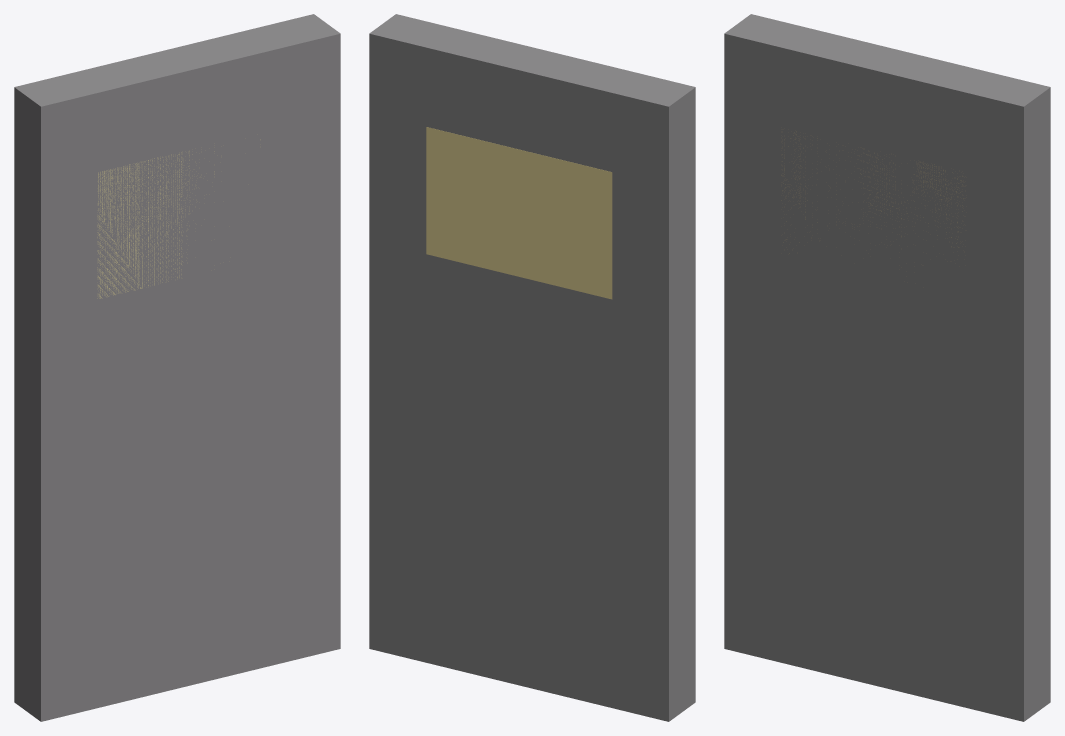
File: door.fbx
3 views of the same model, side by side, from view 1: azimuth 30°, elevation 25°; view 2: azimuth 150°, elevation 25°; view 3: azimuth 330°, elevation 25° (orthographic).
Parts seen in each view (by area): view 1: root (×2); view 2: root (×2); view 3: root.
Boxes of the visible parts, x1,y1,x2,y2 form: root (×2): (14, 14, 340, 721); root (×2): (369, 14, 695, 721); root: (724, 14, 1050, 721).
Bounding box in the file's own units: 0.1518 × 0.2977 × 0.0236.
2 materials, 1 textured.
